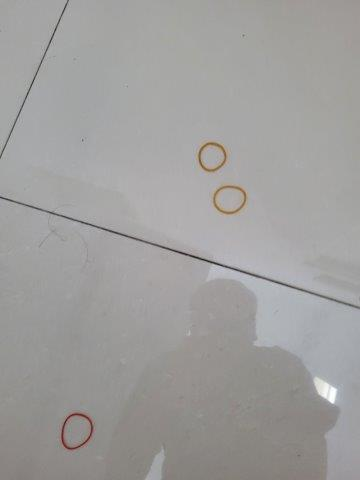karet: (60, 413, 94, 451), (211, 186, 249, 215), (199, 144, 226, 171)
